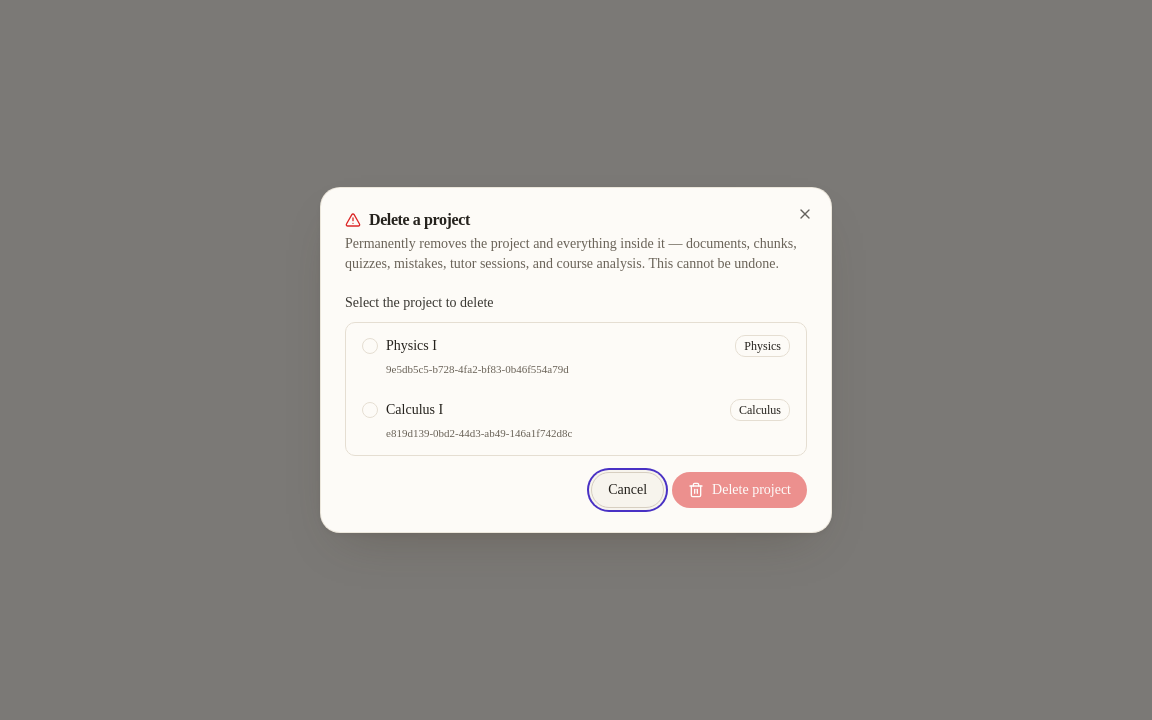
Scenario: DeleteProjectDialog › keeps delete disabled until the exact name is typed
expect the text "Calculus I" is shown: met, box [386,402,443,417]
Click the radio button labelled "Calculus I Calculus e819d139-0bd2-44d3-ab49-146a1f742d8c" at (415, 410), box [350,391,802,451]
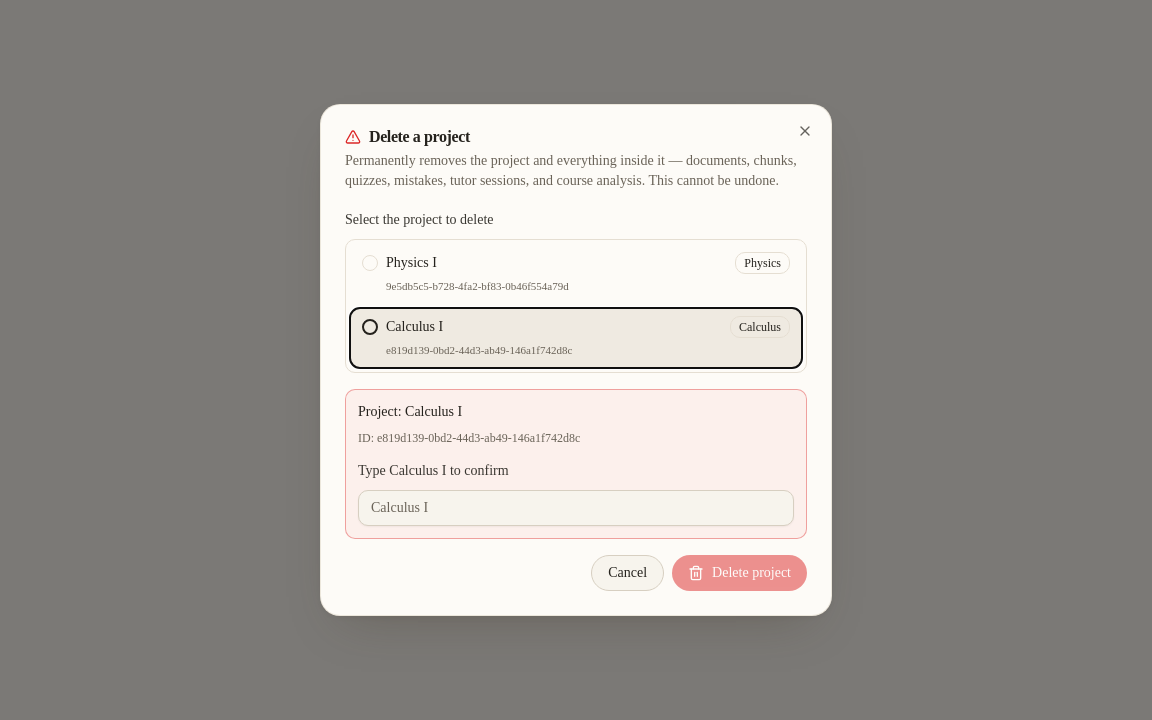
expect the button "Delete project" is disabled: met, box [672,555,807,591]
Type "Physics" into the field labelled "Type Calculus I to confirm" at (576, 508), box [358,490,794,526]
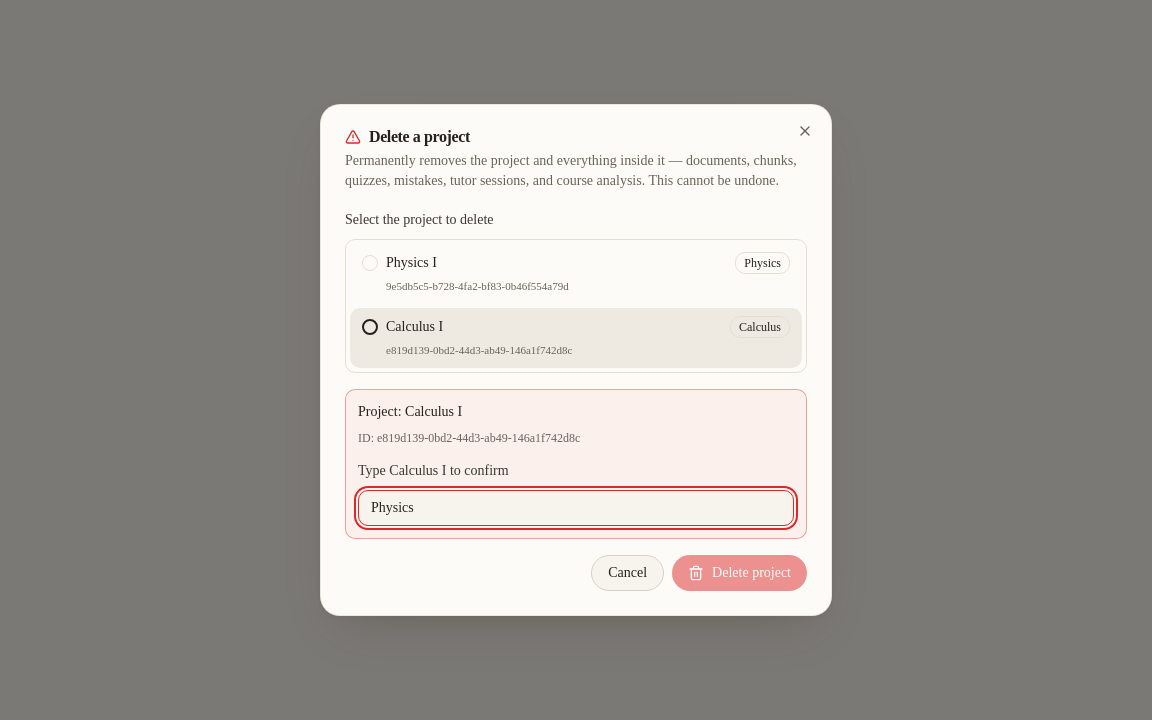
expect the button "Delete project" is disabled: met, box [672,555,807,591]
Replace the text in the field labelled "Type Calculus I to confirm" with "Calculus I" at (576, 508), box [358,490,794,526]
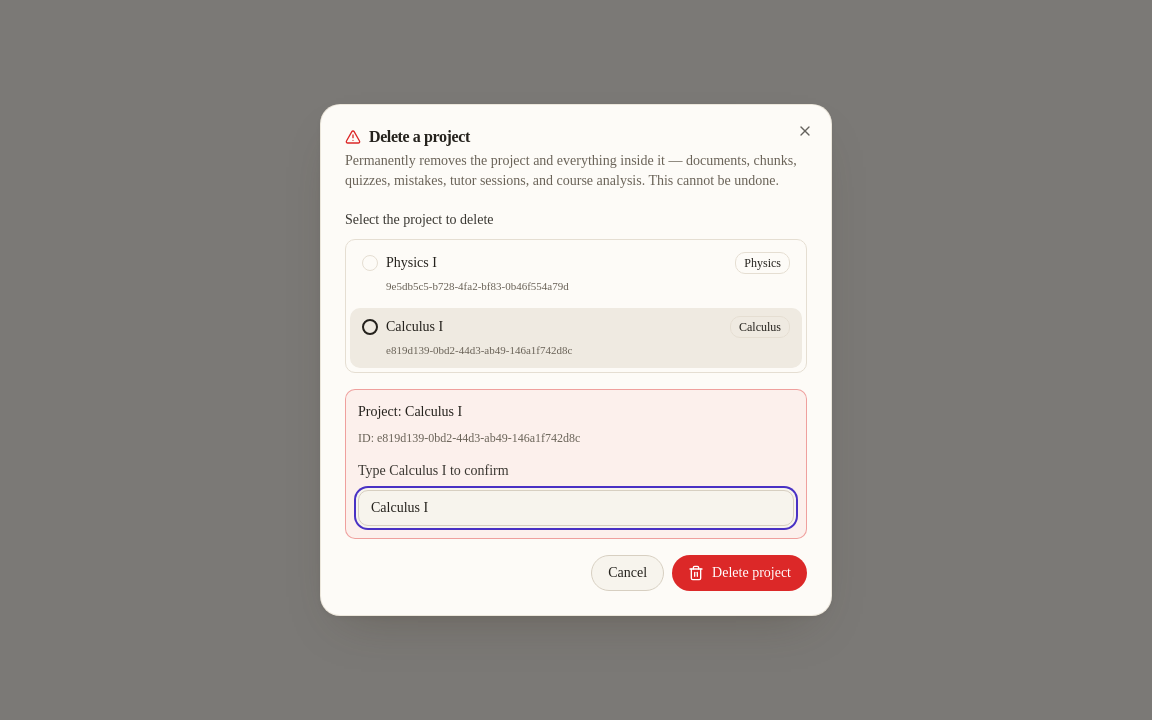
expect the button "Delete project" is enabled: met, box [672,555,807,591]
